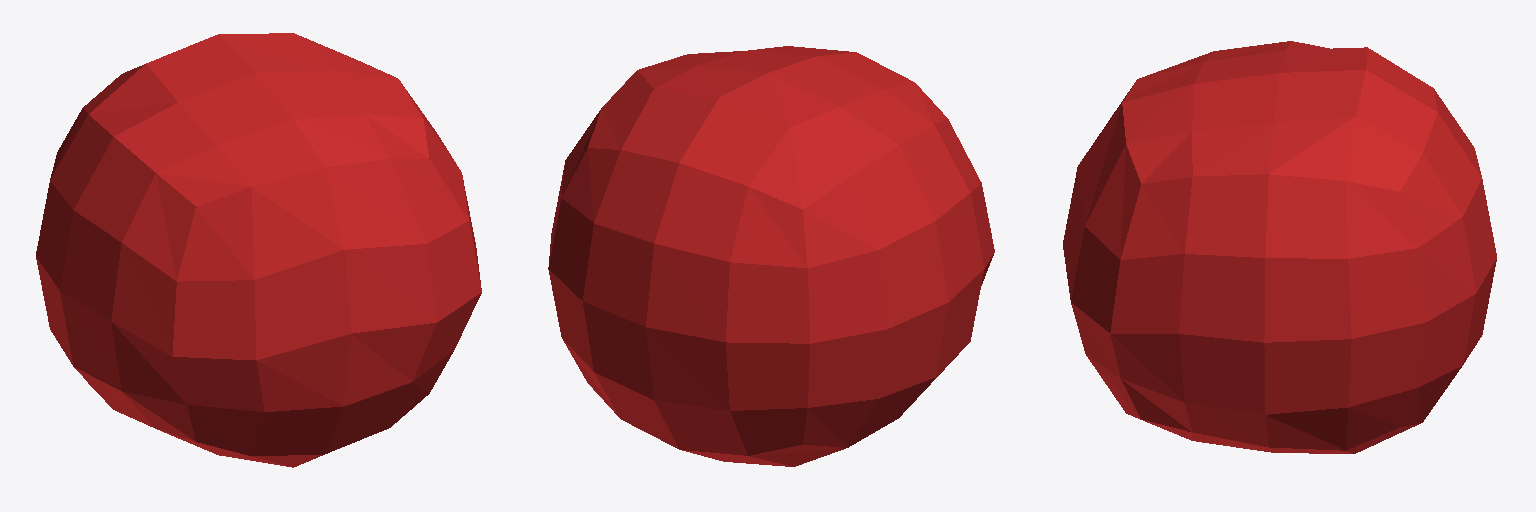
Rendered from Porco-cabeca.obj.
3 renders of one model, left to right at view 1: azimuth 30°, elevation 25°; view 2: azimuth 150°, elevation 25°; view 3: azimuth 270°, elevation 25°, orthographic.
Parts seen in each view (by area): view 1: Porco-cabeca_Cubo.003; view 2: Porco-cabeca_Cubo.003; view 3: Porco-cabeca_Cubo.003.
Part boxes in pixels (x1,y1,x2,y2): Porco-cabeca_Cubo.003: (36,33,481,467); Porco-cabeca_Cubo.003: (548,46,994,466); Porco-cabeca_Cubo.003: (1063,41,1496,453).
Size of the model in its own units: 2.41 by 2.32 by 2.41.